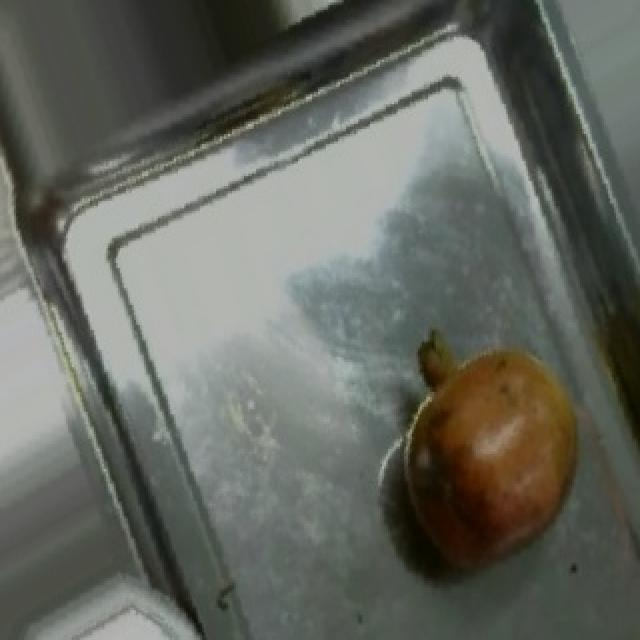fruit: (360, 305, 614, 593)
